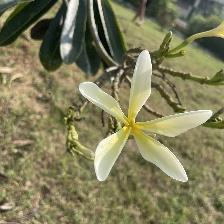champaka: (80, 49, 216, 188)
